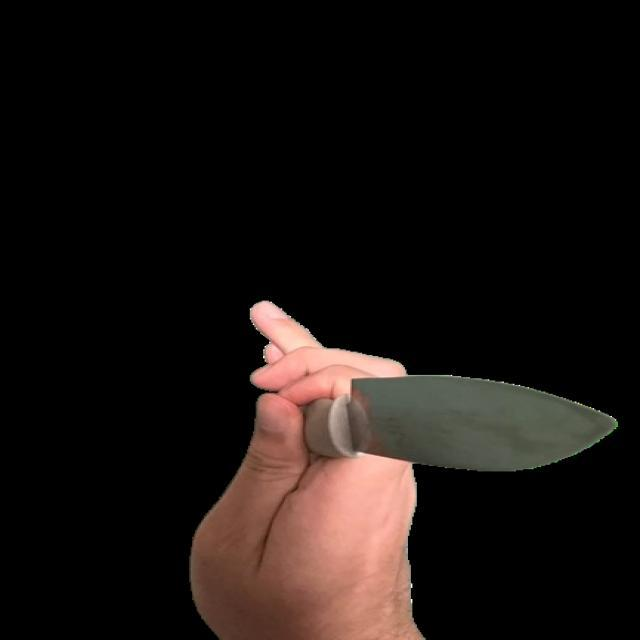knife: (287, 379, 617, 472)
